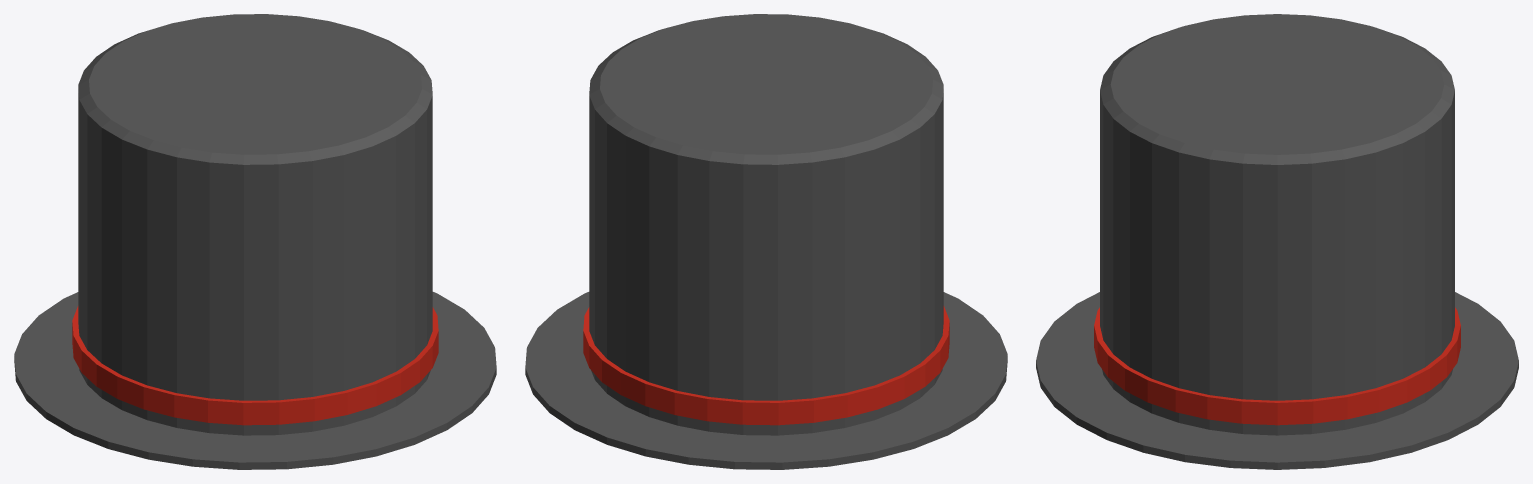
The model's file is Top Hat.fbx.
3 views of the same model, side by side, from view 1: azimuth 30°, elevation 25°; view 2: azimuth 150°, elevation 25°; view 3: azimuth 270°, elevation 25° (orthographic).
Visible parts, largest first — view 1: Circle; view 2: Circle; view 3: Circle.
Boxes of the visible parts, x1=… form: Circle: x1=14, y1=14, x2=496, y2=469; Circle: x1=525, y1=14, x2=1007, y2=469; Circle: x1=1036, y1=14, x2=1518, y2=469.
Bounding box in the file's own units: 200 × 130 × 200.
